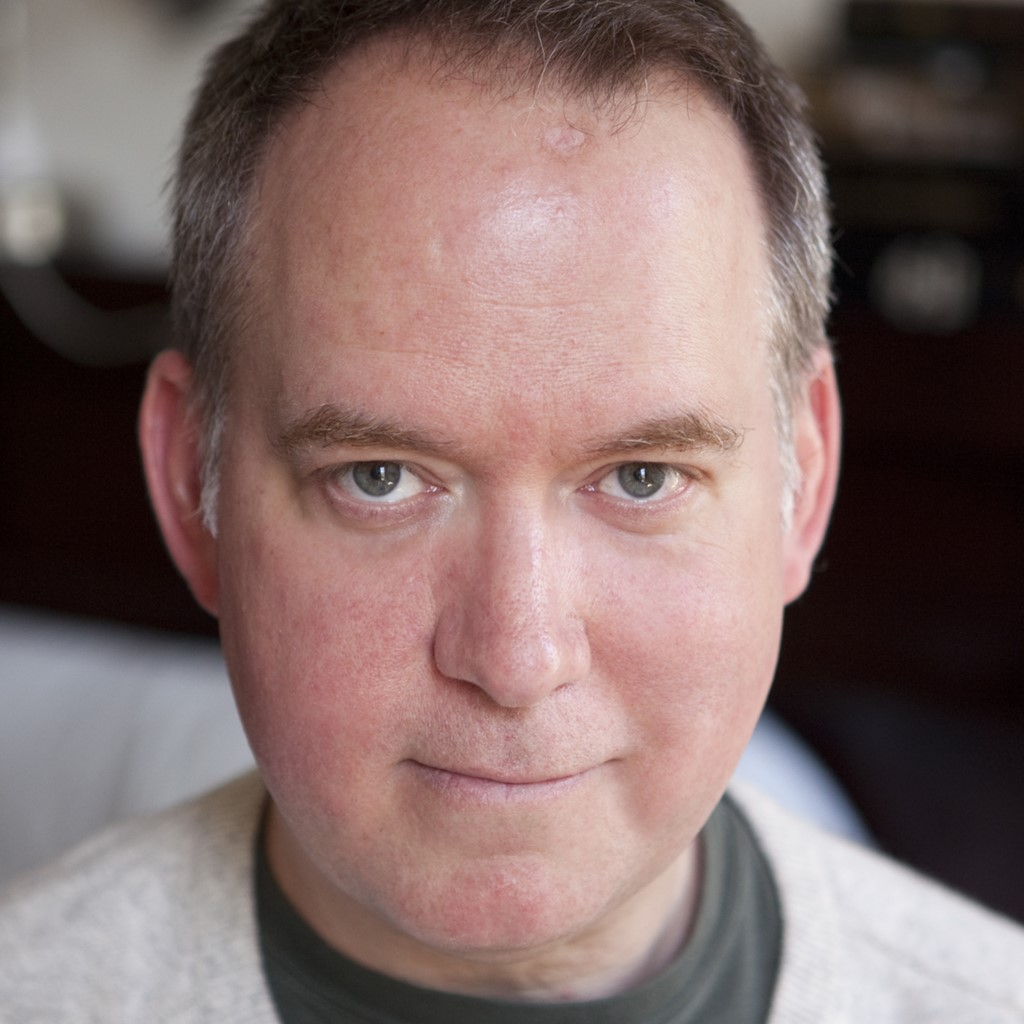sin_mascara: (206, 38, 815, 949)
